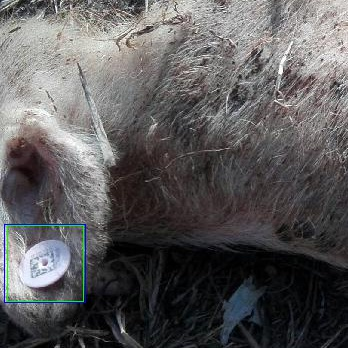text: (7, 225, 83, 301)
